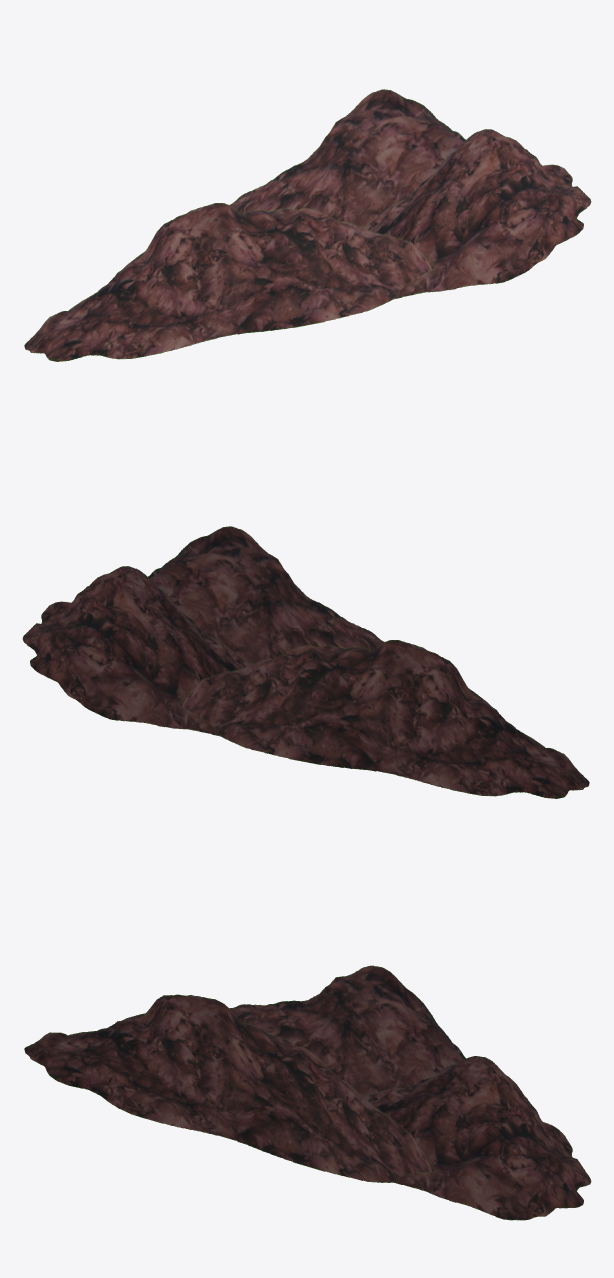
Rendered from distant_pig_pile_2.fbx.
3 views of the same model, one above another, from view 1: azimuth 30°, elevation 25°; view 2: azimuth 150°, elevation 25°; view 3: azimuth 330°, elevation 25° (orthographic).
Parts seen in each view (by area): view 1: distant_pig_pile_02; view 2: distant_pig_pile_02; view 3: distant_pig_pile_02.
Part boxes in pixels (bbox=[...]): distant_pig_pile_02: bbox=[24, 89, 591, 361]; distant_pig_pile_02: bbox=[22, 526, 589, 798]; distant_pig_pile_02: bbox=[24, 965, 591, 1220].
Size of the model in its own units: 1085 by 470 by 0.00017.
